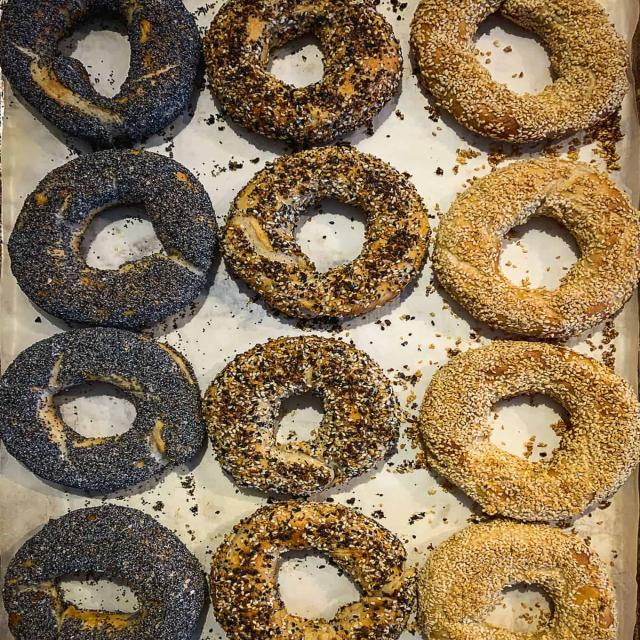Bagel: (420, 341, 639, 521), (8, 149, 217, 329), (433, 159, 639, 338), (220, 146, 430, 319), (0, 328, 205, 492), (203, 336, 403, 495), (411, 0, 628, 142), (2, 0, 202, 148), (203, 0, 403, 146), (209, 501, 416, 640), (3, 505, 206, 640), (419, 520, 617, 640)
